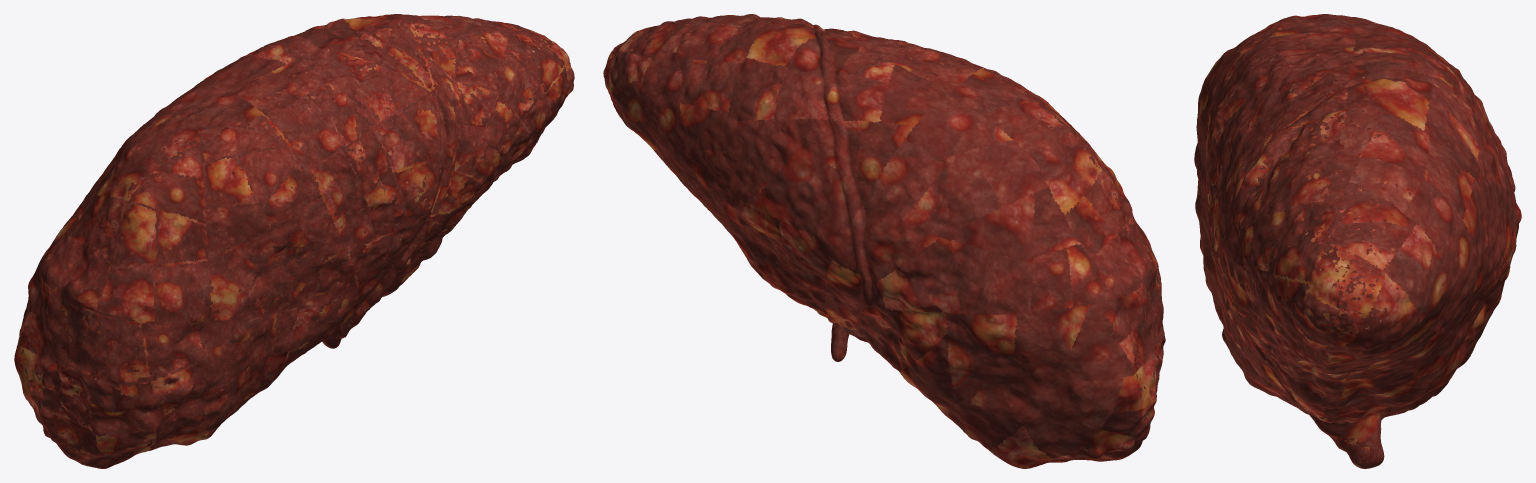
File: liver-cancer.glb
The picture shows the model from 3 angles, left to right: view 1: azimuth 30°, elevation 25°; view 2: azimuth 150°, elevation 25°; view 3: azimuth 270°, elevation 25°; orthographic projection. The views are drawn at different scales.
Parts seen in each view (by area): view 1: LiverCancer; view 2: LiverCancer; view 3: LiverCancer.
Boxes of the visible parts, x1,y1,x2,y2 form: LiverCancer: (14,14,574,468); LiverCancer: (603,14,1165,468); LiverCancer: (1194,14,1521,468).
Bounding box in the file's own units: 0.2002 × 0.1309 × 0.082.
1 material, 1 textured.
